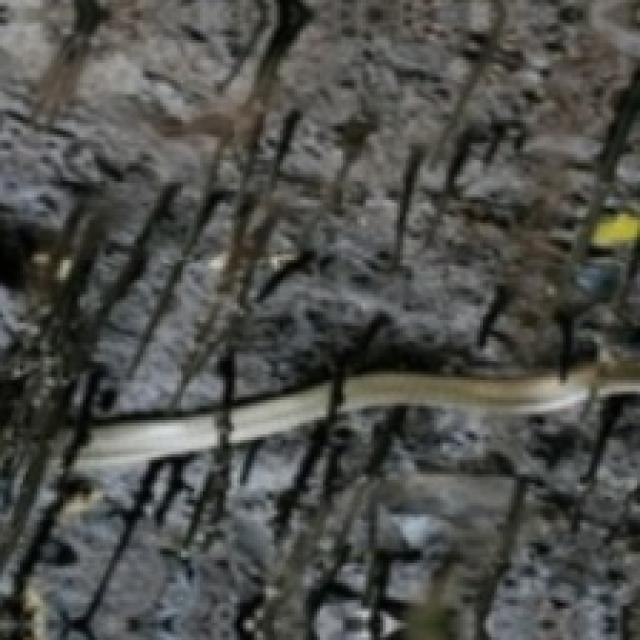king cobra: (340, 360, 637, 411), (74, 409, 217, 469)
